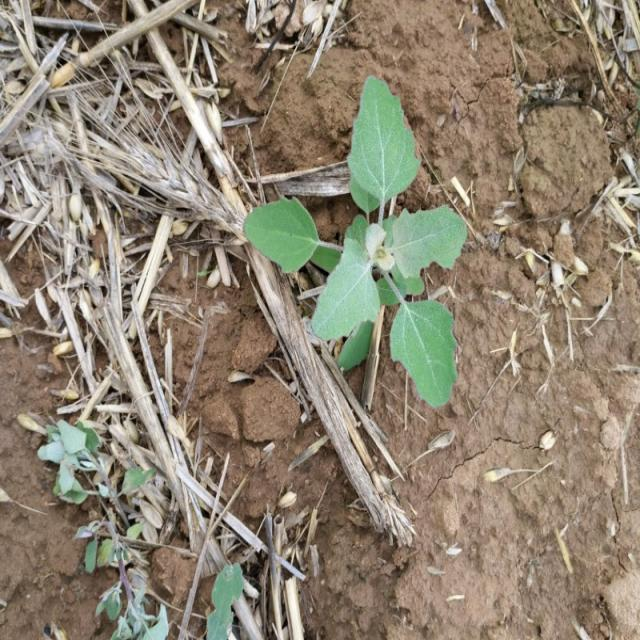goosefoots: (242, 97, 502, 411)
